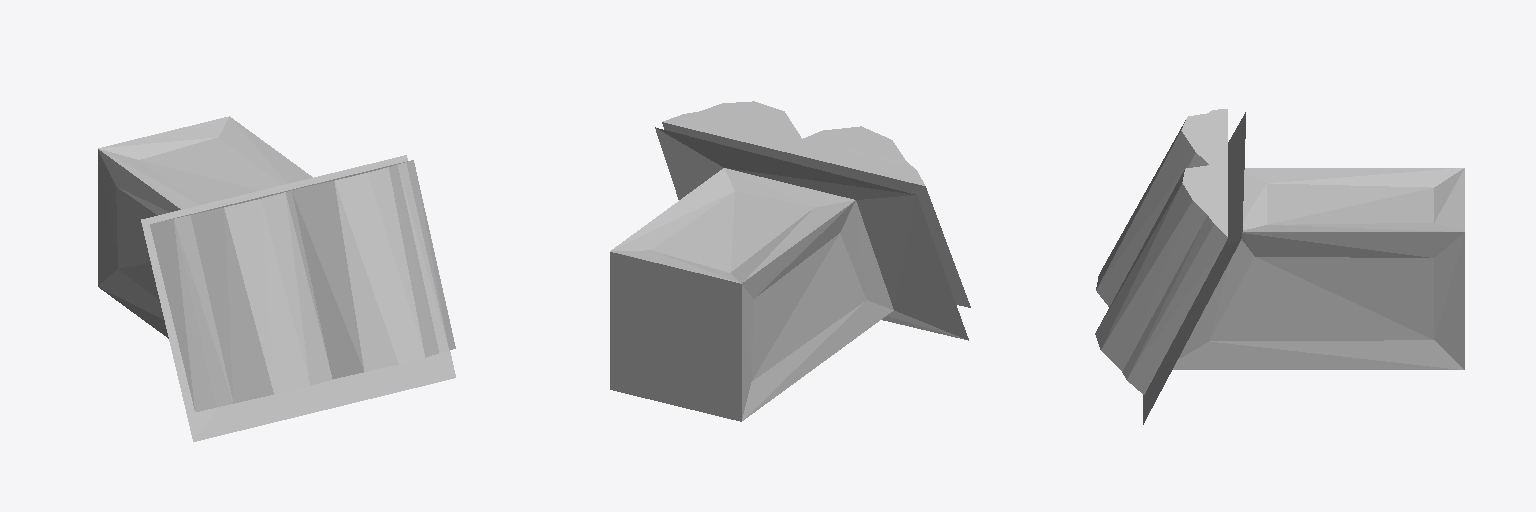
The model's file is biblia.obj.
3 views of the same model, side by side, from view 1: azimuth 30°, elevation 25°; view 2: azimuth 150°, elevation 25°; view 3: azimuth 270°, elevation 25° (orthographic).
Visible parts, largest first — view 1: Bible_on_lectern; view 2: Bible_on_lectern; view 3: Bible_on_lectern.
Part boxes in pixels (x1,y1,x2,y2): Bible_on_lectern: (98,116,455,441); Bible_on_lectern: (610,101,970,421); Bible_on_lectern: (1095,109,1464,424).
Size of the model in its own units: 0.7621 by 0.575 by 0.9238.